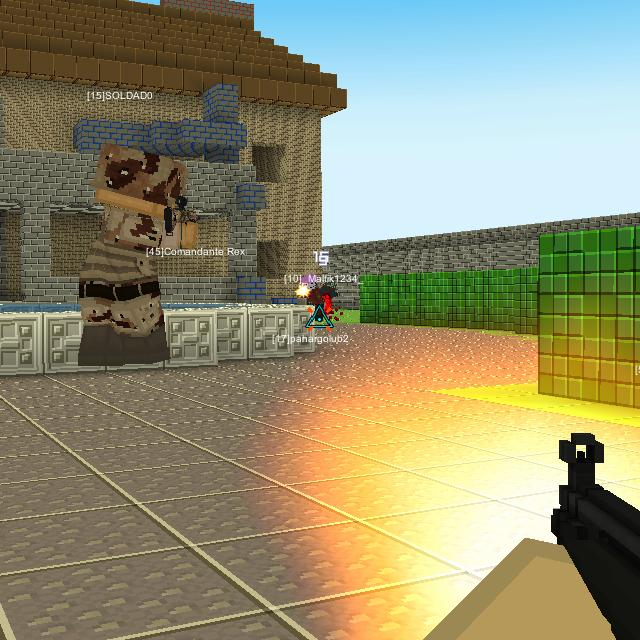enemy: (299, 273, 323, 322)
